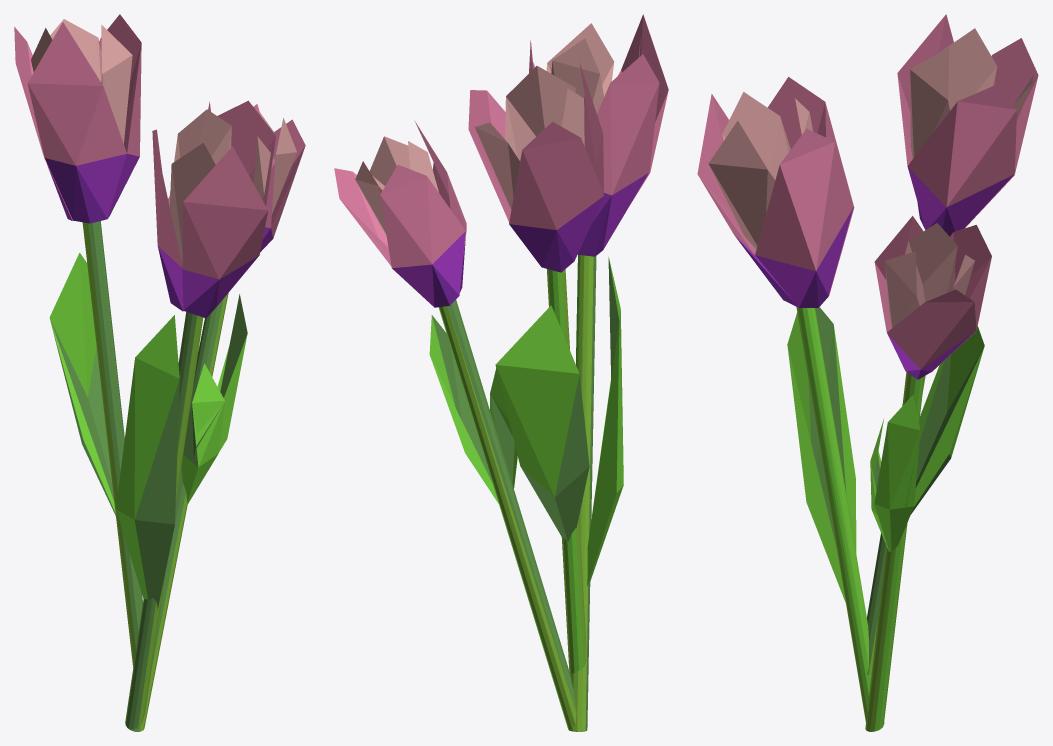
The model's file is Tulipani.fbx.
The picture shows the model from 3 angles, left to right: view 1: azimuth 30°, elevation 25°; view 2: azimuth 150°, elevation 25°; view 3: azimuth 270°, elevation 25°; orthographic projection. The views are drawn at different scales.
Visible parts, largest first — view 1: group605848671; view 2: group605848671; view 3: group605848671.
Part boxes in pixels (x1=…): group605848671: x1=14, y1=14, x2=305, y2=731; group605848671: x1=334, y1=14, x2=668, y2=731; group605848671: x1=697, y1=14, x2=1038, y2=731.
Bounding box in the file's own units: 49.53 × 124 × 54.94.
